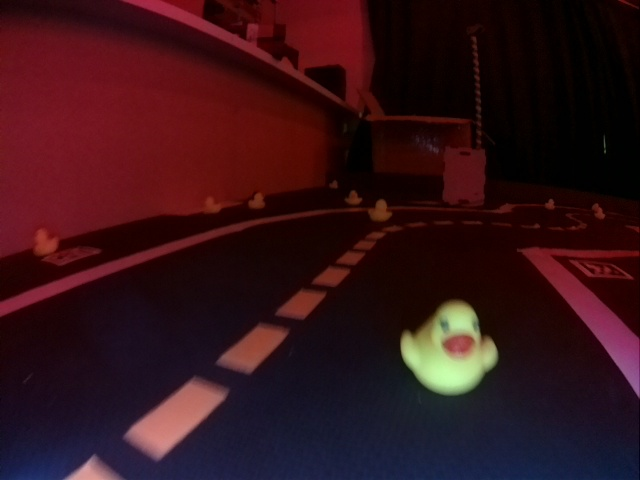Duckie: (401, 308, 498, 397), (33, 229, 59, 254), (368, 199, 392, 220), (248, 193, 266, 208), (346, 191, 362, 204)
QR code: (571, 259, 632, 278), (43, 246, 100, 266)
